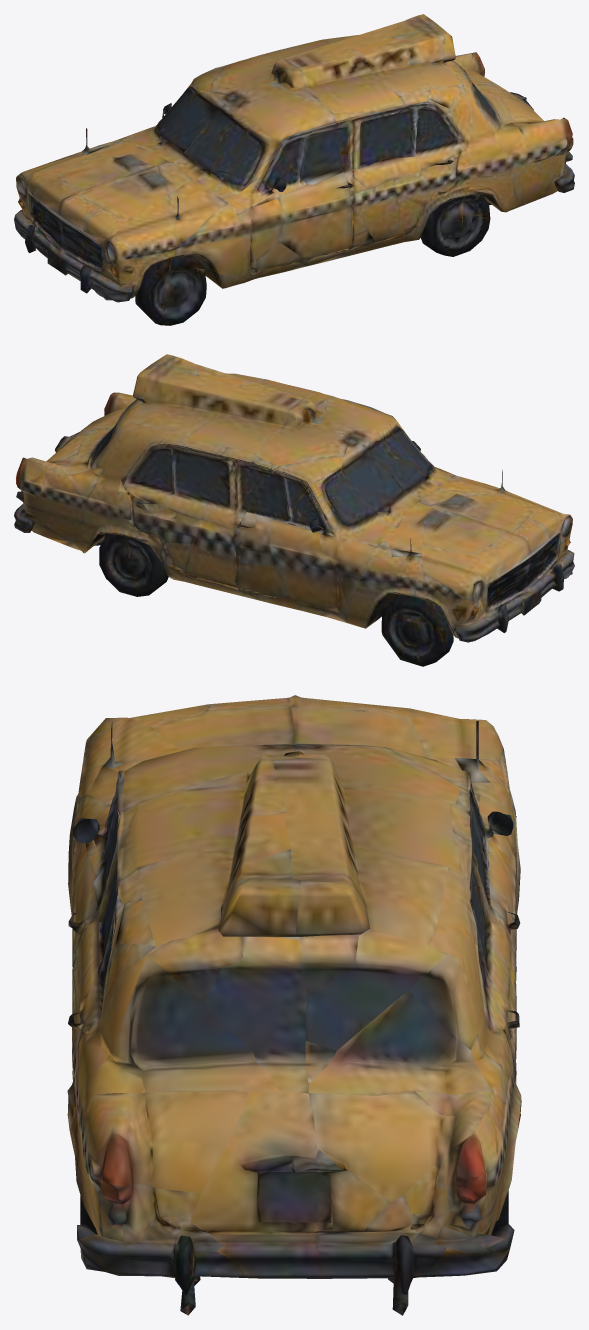
The model's file is car_taxi_light_q2.glb.
The picture shows the model from 3 angles, top to bottom: view 1: azimuth 30°, elevation 25°; view 2: azimuth 150°, elevation 25°; view 3: azimuth 270°, elevation 25°; orthographic projection. The views are drawn at different scales.
Bounding box in the file's own units: 4.01 × 1.5 × 1.62.
Materials: 1 (1 with a texture image).
